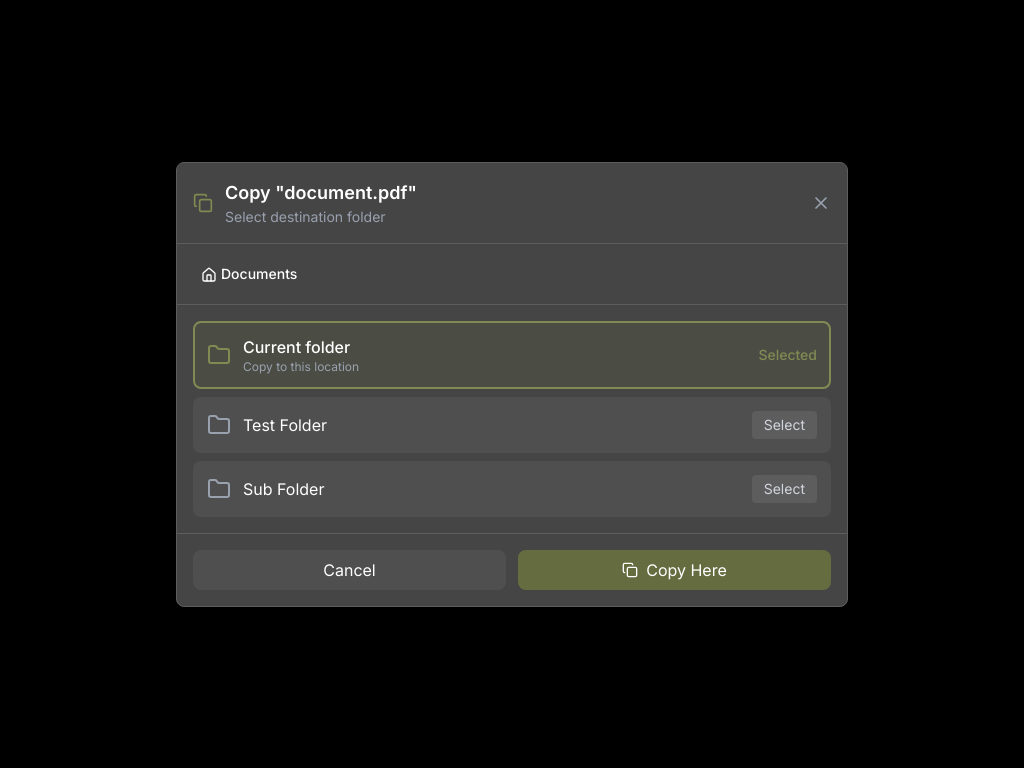
CopyMoveModal › Folder Selection › should reset selection when navigating
Check: the text "Test Folder" is shown, box [243, 414, 327, 434]
# Select a folder
Click the 1st button "Select": click(784, 424) [752, 410, 817, 438]
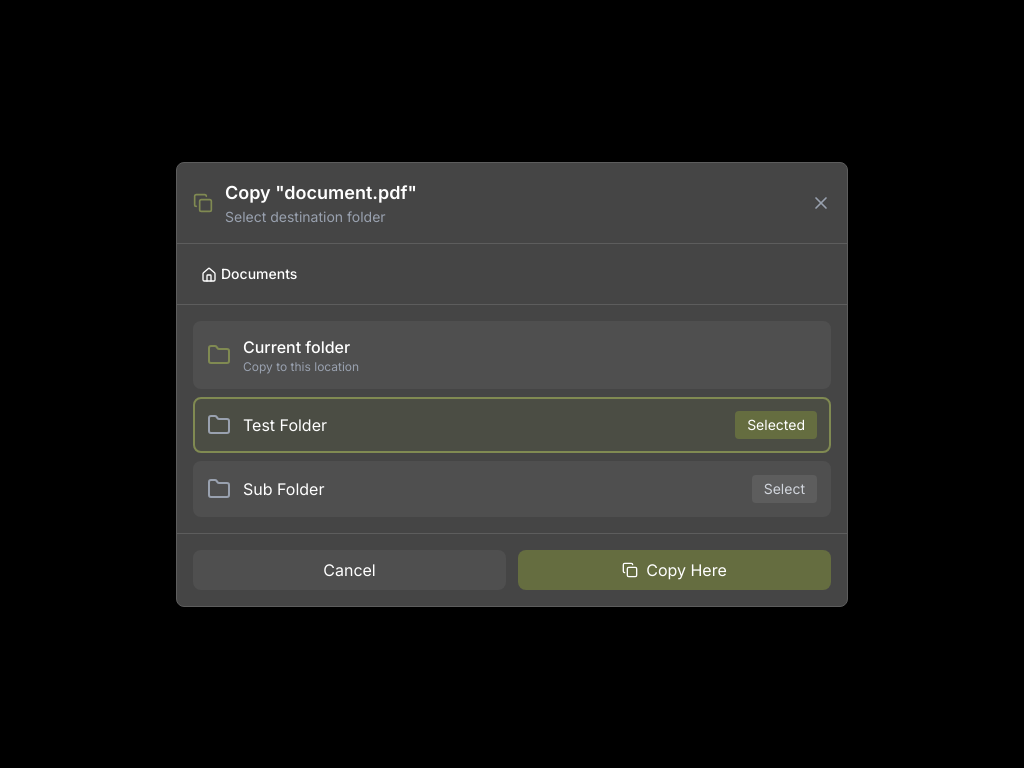
Check: the button "Selected" is shown, box [735, 410, 817, 438]
Click the button "Test Folder": click(285, 424) [207, 412, 723, 436]
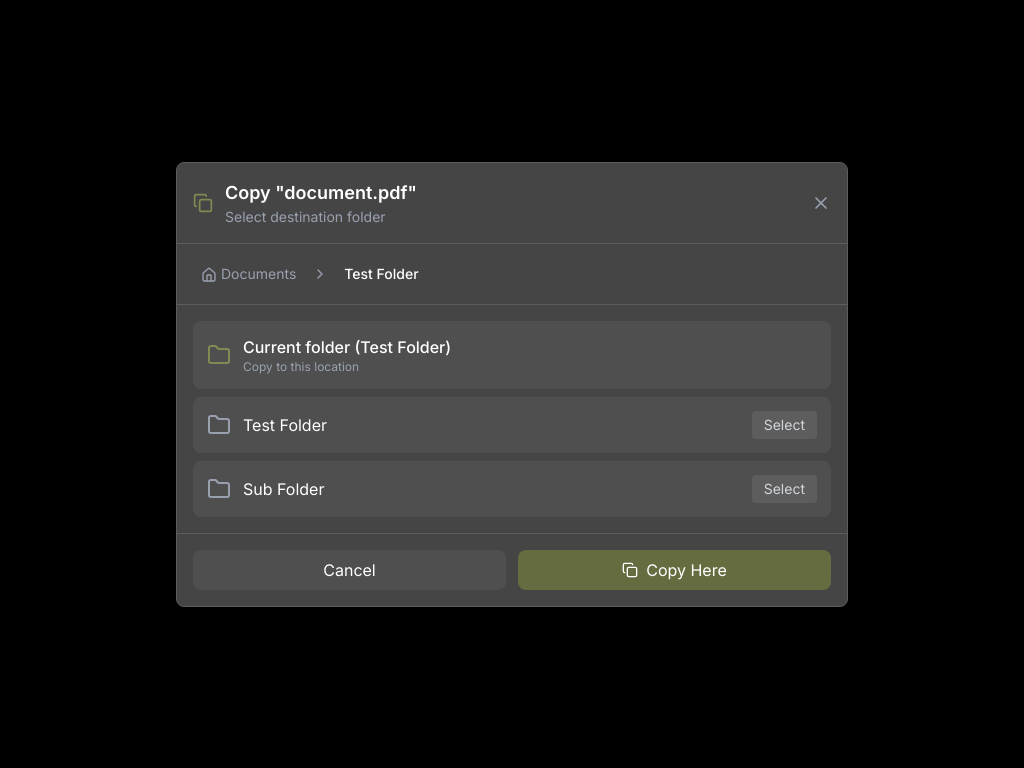
Check: the 1st button "Test Folder" is shown, box [336, 260, 427, 288]
